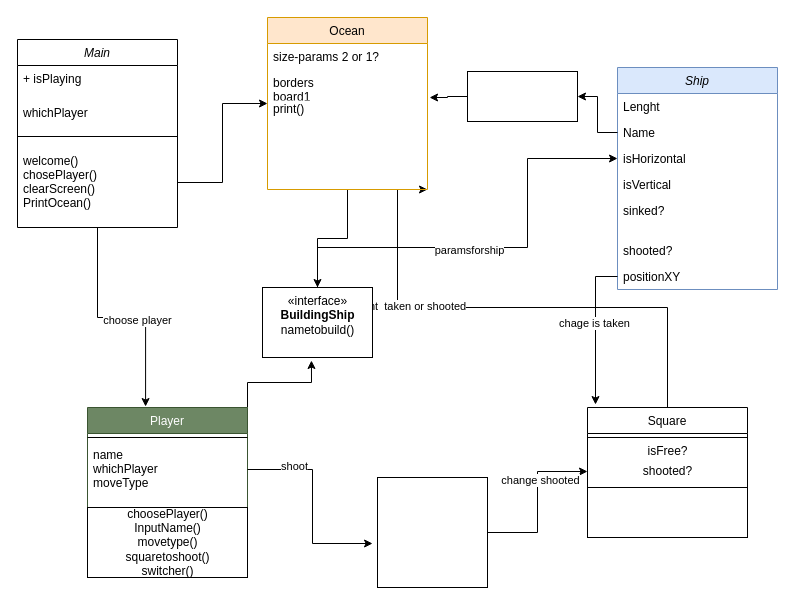
Image size: 795x605. Some labels were removed from this diagram. Here are the shapes that lost their labels. From the top down, the centre of each, then its label:
At pixel 522 96: "«interface» PlaceTheShip".
At pixel 432 532: "«interface» Shooting shooting()".
At pixel 667 512: "FreeToTaken() ChangeToShooted()".
